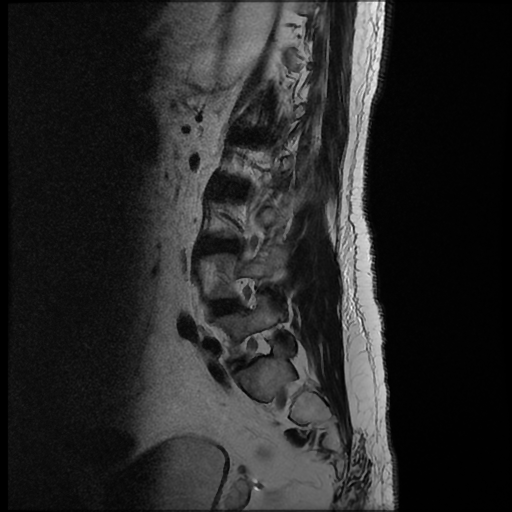LFS0: (224, 270, 269, 318)
